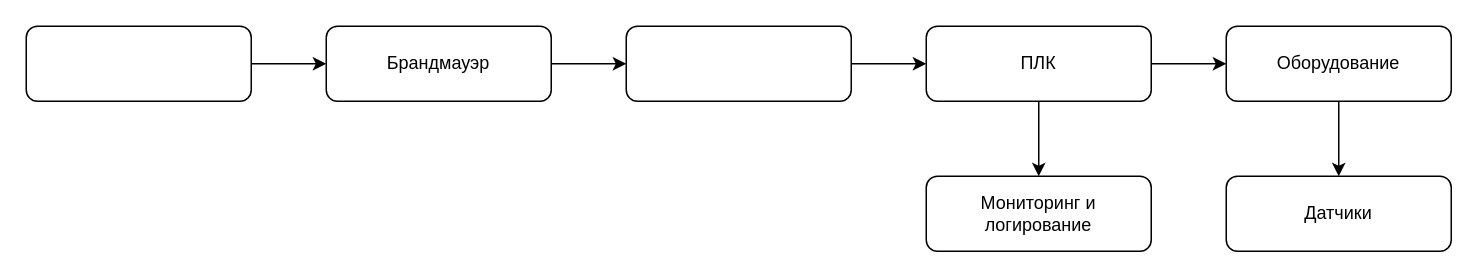
This 1478x278 diagram has some shape labels left out. The shapes that lost their labels are listed below. From the top down, each one's centre as x and y in pixels, then its label:
At point 138,63: "Центральная система управления".
At point 738,63: "Шифрование данных".
